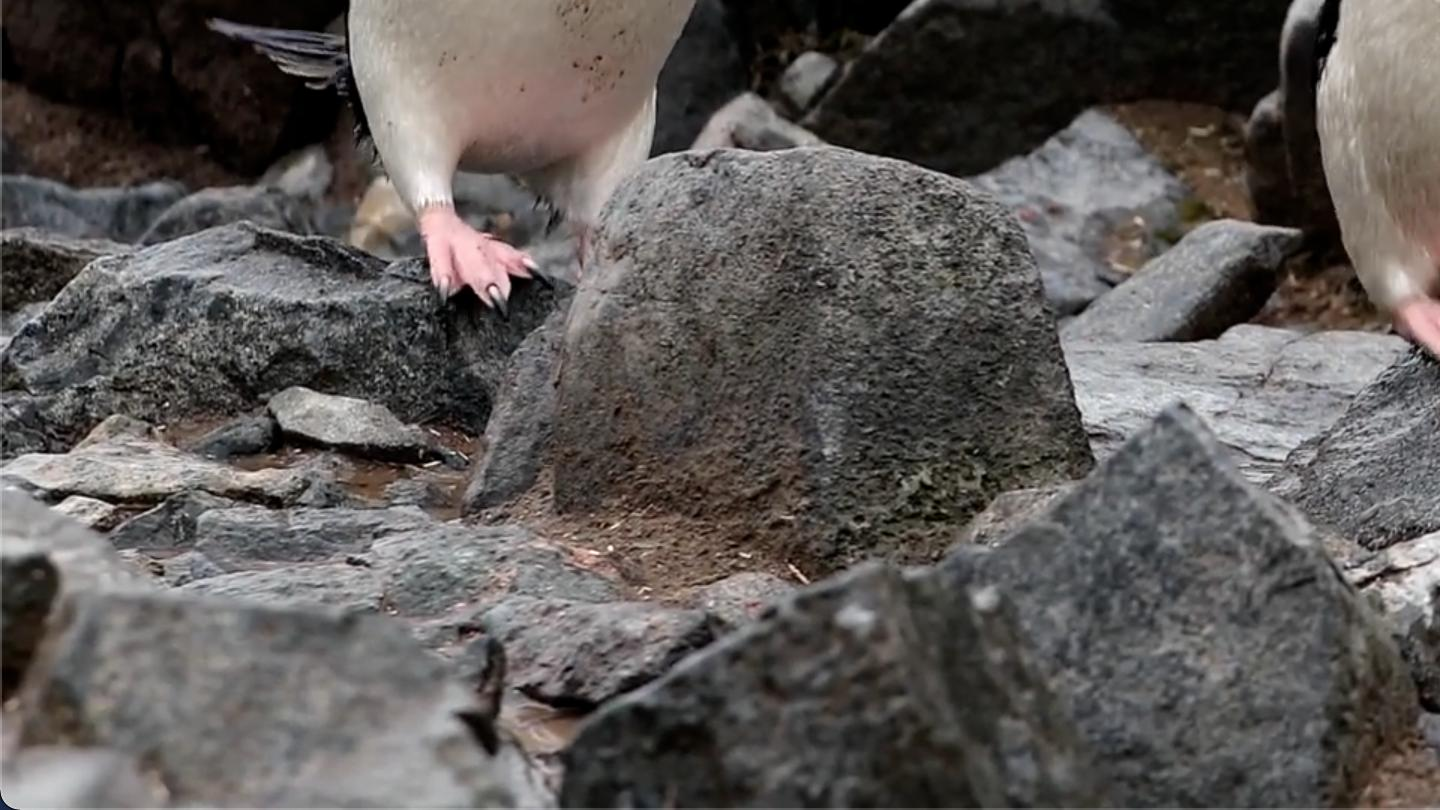Chinstrap Penguin: (159, 0, 881, 286), (1014, 0, 1440, 409)
